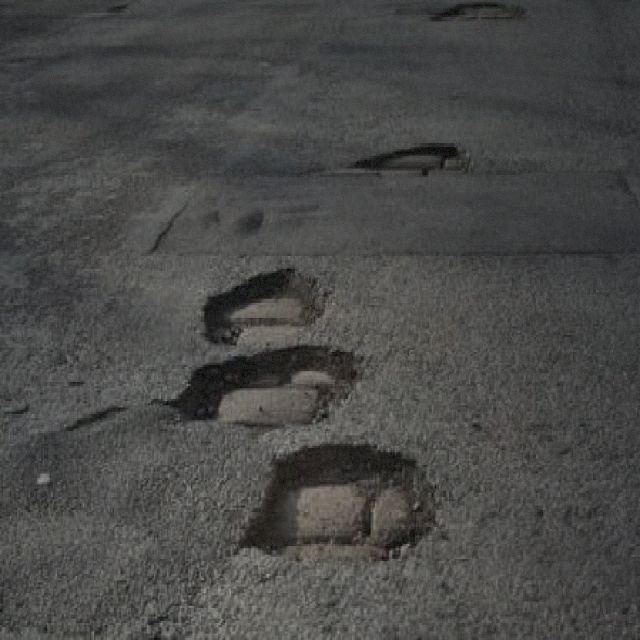pothole: (235, 440, 436, 566), (167, 341, 362, 429), (199, 262, 328, 342), (346, 136, 474, 175), (426, 0, 531, 23)
